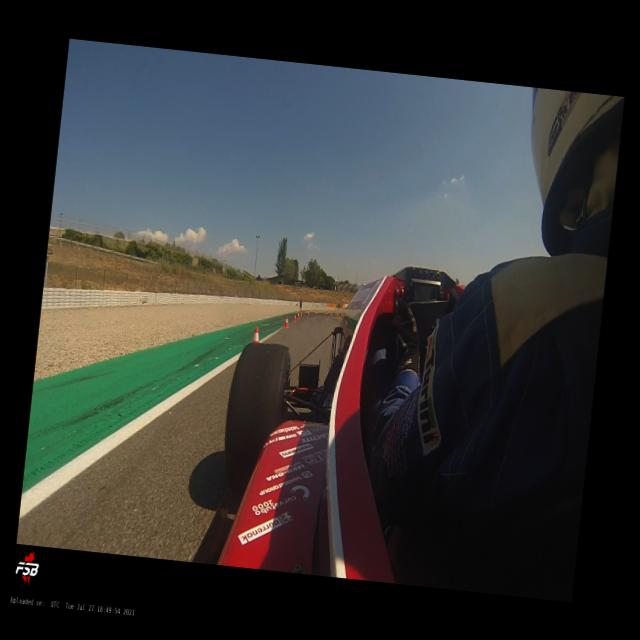orange_cone: (252, 326, 260, 342), (284, 316, 288, 328), (296, 312, 300, 318), (293, 314, 296, 321)
